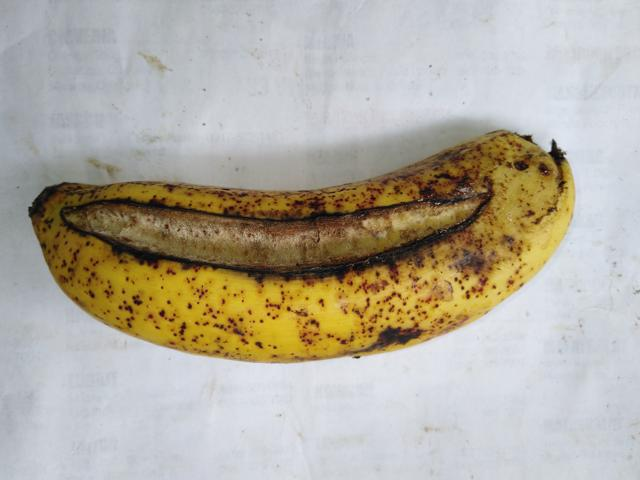rotten: (66, 142, 485, 296)
